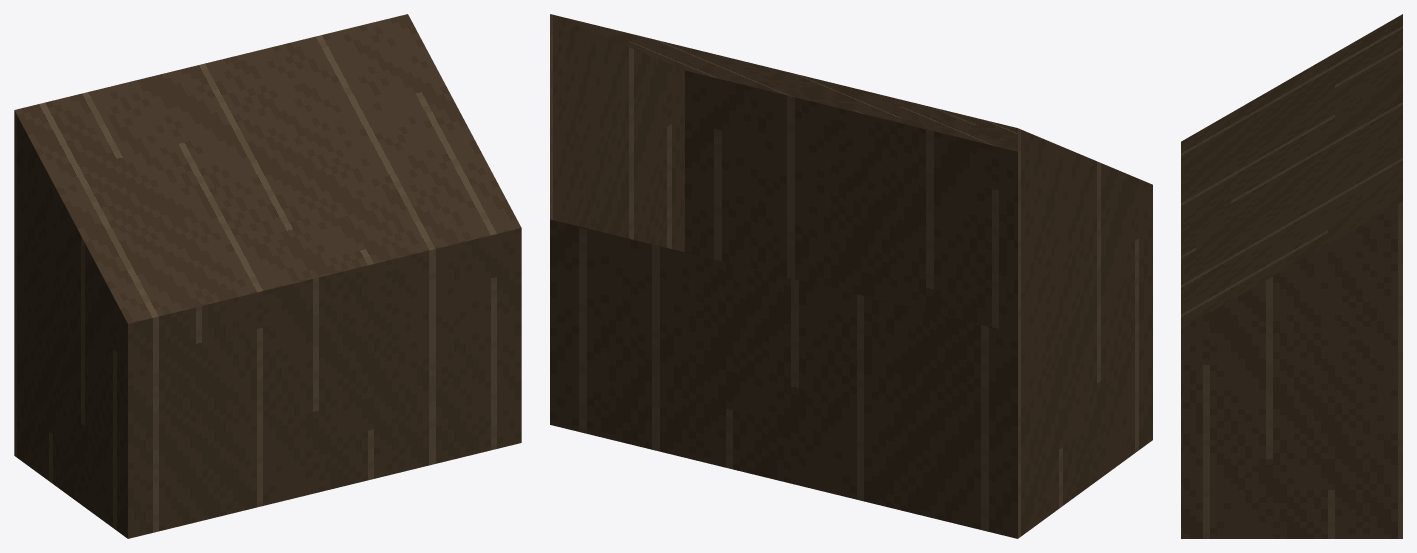
The model's file is housea.obj.
3 views of the same model, side by side, from view 1: azimuth 30°, elevation 25°; view 2: azimuth 150°, elevation 25°; view 3: azimuth 270°, elevation 25° (orthographic). The views are drawn at different scales.
Parts seen in each view (by area): view 1: Cube; view 2: Cube; view 3: Cube.
Part boxes in pixels (left/top/right/bottom): Cube: left=14, top=14, right=521, bottom=538; Cube: left=550, top=14, right=1152, bottom=538; Cube: left=1181, top=14, right=1402, bottom=538.
Bounding box in the file's own units: 6.27 × 5.27 × 3.14.
Materials: 1 (1 with a texture image).
